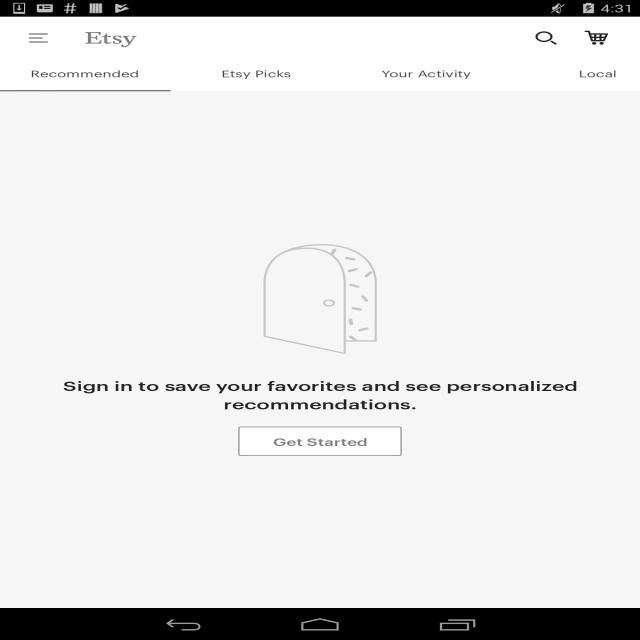Button: (238, 427, 402, 456)
ImageButton: (9, 17, 68, 59)
ImageView: (263, 244, 377, 355), (86, 17, 136, 59), (585, 30, 610, 46)
TextView: (17, 376, 623, 416), (30, 66, 140, 84), (520, 22, 572, 54), (382, 66, 472, 84), (221, 66, 291, 84), (578, 66, 617, 84)
